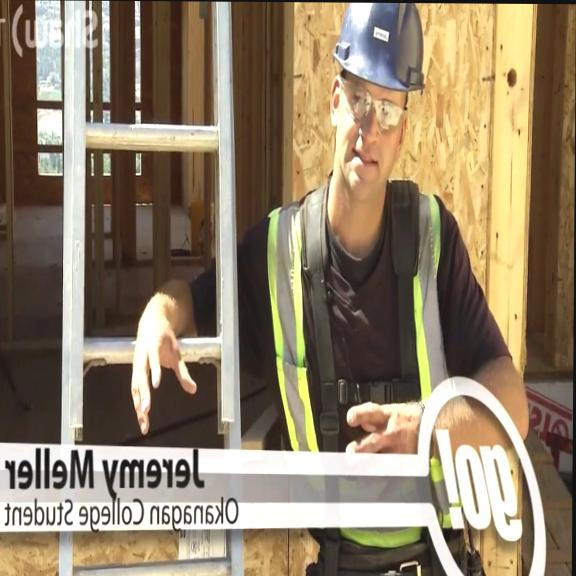safety_vest: (265, 186, 464, 550)
